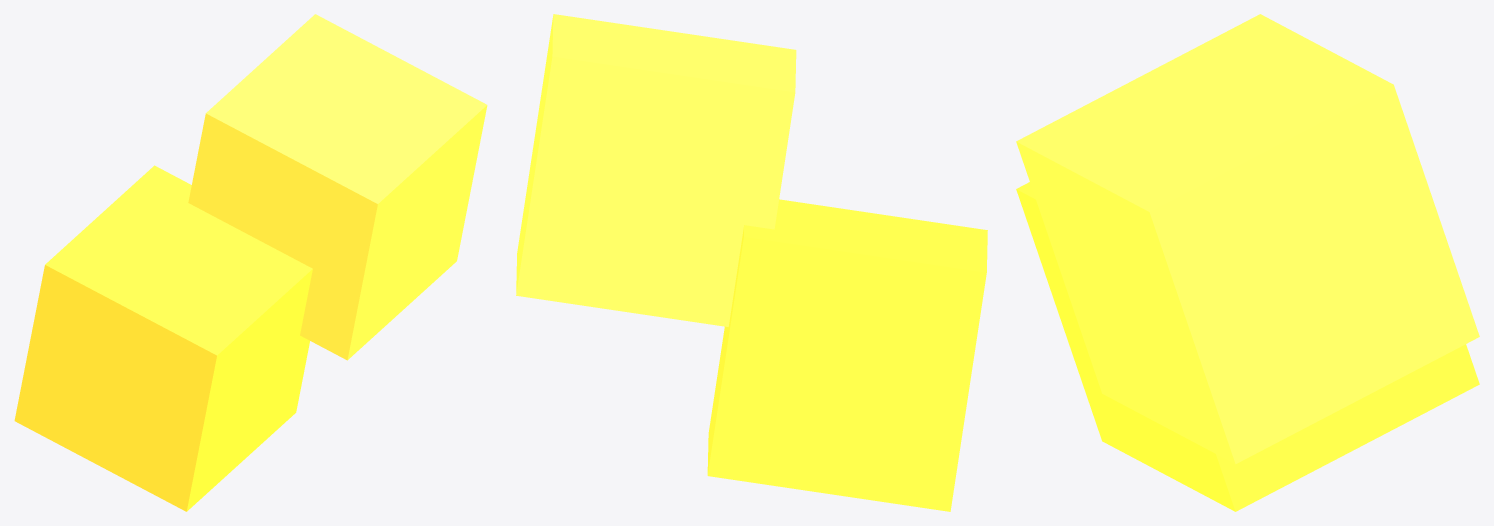
The model's file is powerup_x2.glb.
3 views of the same model, side by side, from view 1: azimuth 30°, elevation 25°; view 2: azimuth 150°, elevation 25°; view 3: azimuth 270°, elevation 25° (orthographic). The views are drawn at different scales.
Visible parts, largest first — view 1: powerup_x2; view 2: powerup_x2; view 3: powerup_x2.
Boxes of the visible parts, bbox=[...] form: powerup_x2: bbox=[14, 14, 487, 511]; powerup_x2: bbox=[516, 14, 987, 511]; powerup_x2: bbox=[1016, 14, 1479, 511].
Size of the model in its own units: 0.9028 by 0.7825 by 0.6368.
